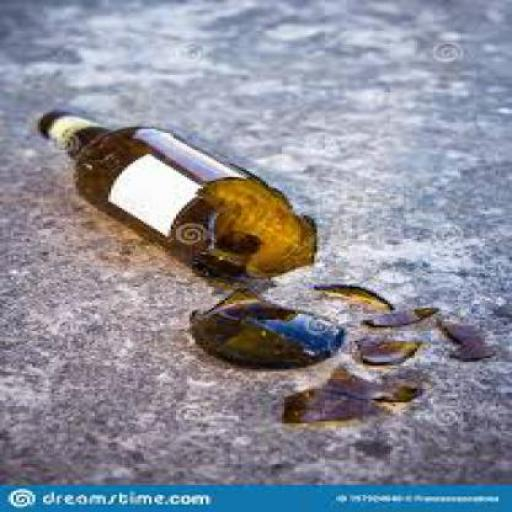glass: (35, 110, 317, 283), (184, 287, 339, 369), (279, 366, 418, 424), (439, 317, 495, 362), (314, 280, 392, 310), (346, 335, 423, 364), (360, 306, 434, 328), (374, 371, 420, 401)
